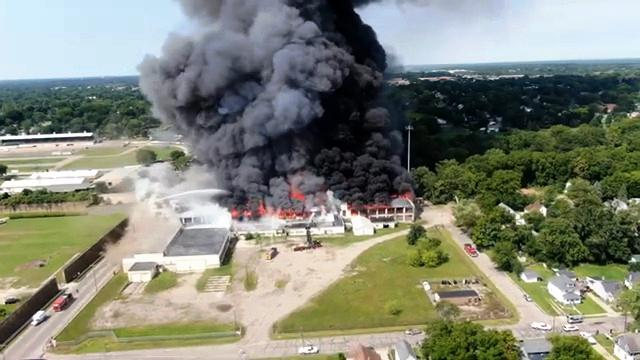smoke: (162, 30, 363, 146), (270, 25, 356, 190), (328, 51, 403, 199), (229, 106, 271, 201)
